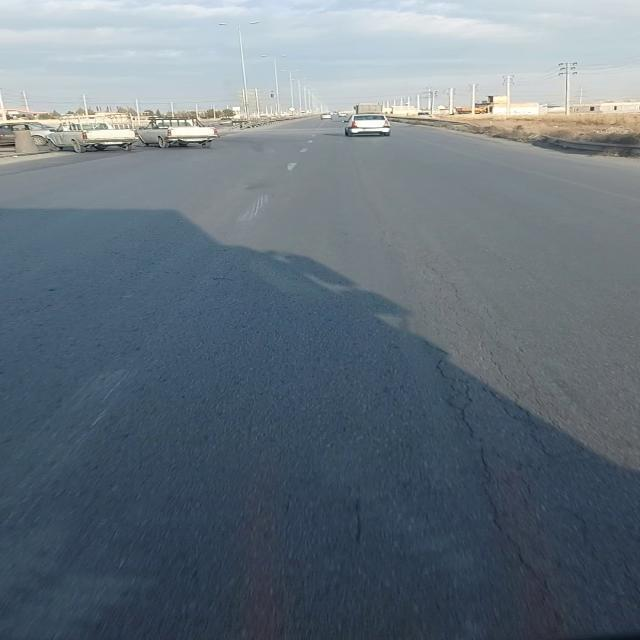Car: (340, 113, 394, 139)
Pickup: (45, 118, 138, 154), (136, 115, 222, 151)
